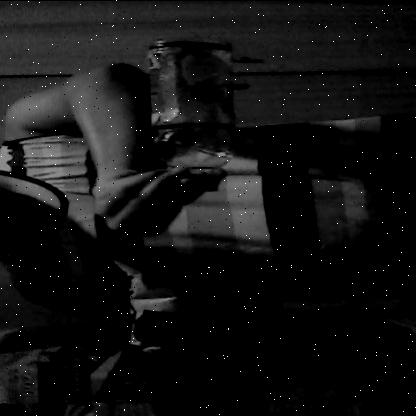Plastic Bottle: (140, 31, 246, 201)
